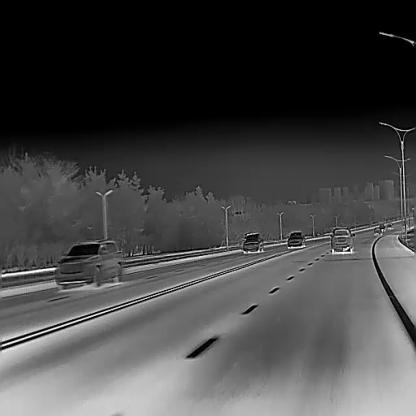car: (54, 238, 122, 289), (329, 228, 355, 253), (243, 233, 264, 252), (286, 232, 306, 247), (374, 227, 380, 233), (387, 221, 392, 227), (380, 224, 384, 229)
